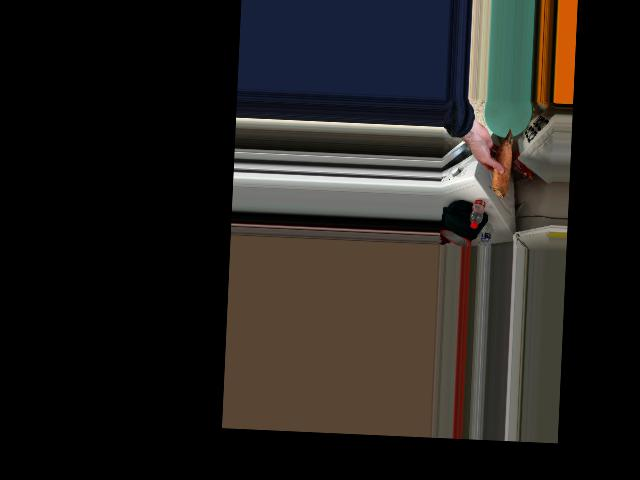sweet_potato: (487, 129, 512, 191)
